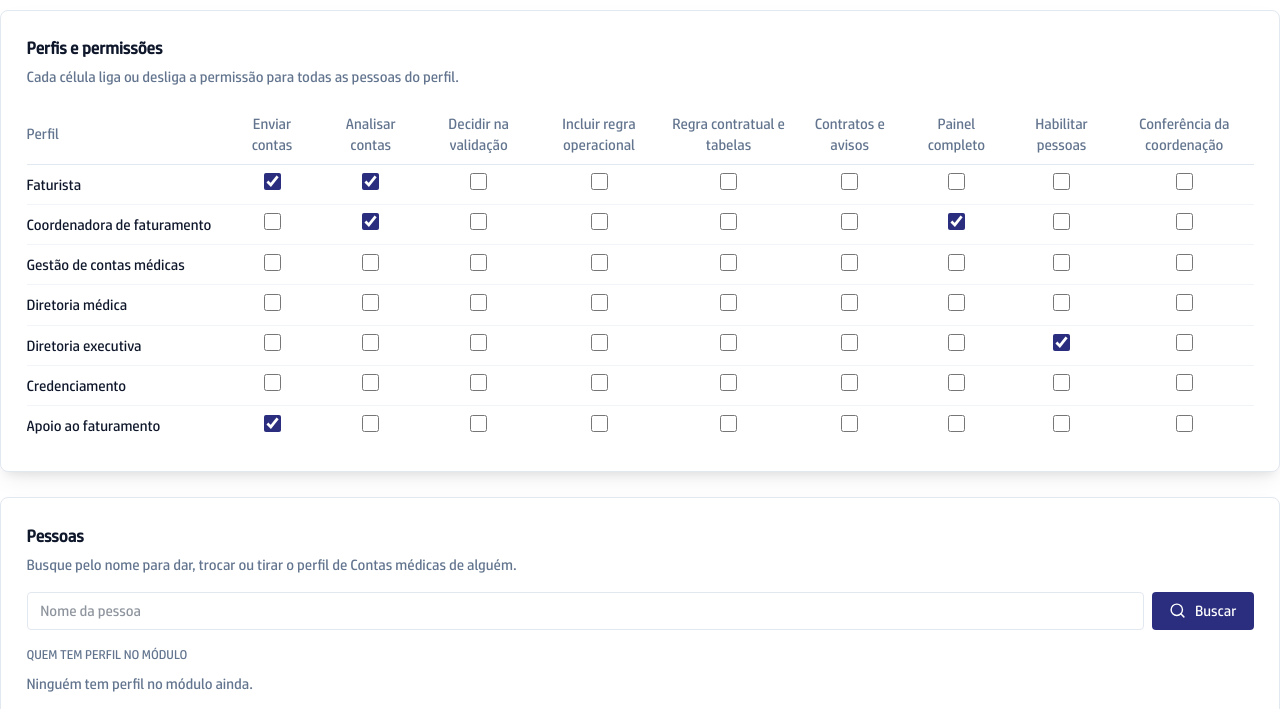
Test: as pessoas › busca pelo nome e dá o perfil à pessoa encontrada
The width and height of the screenshot is (1280, 709).
(page scrolled)
Step 1. Type "Fernanda" into the search field named "Buscar pessoa pelo nome" → coordinates (585, 611), box top-left (26, 592), bottom-right (1144, 630)
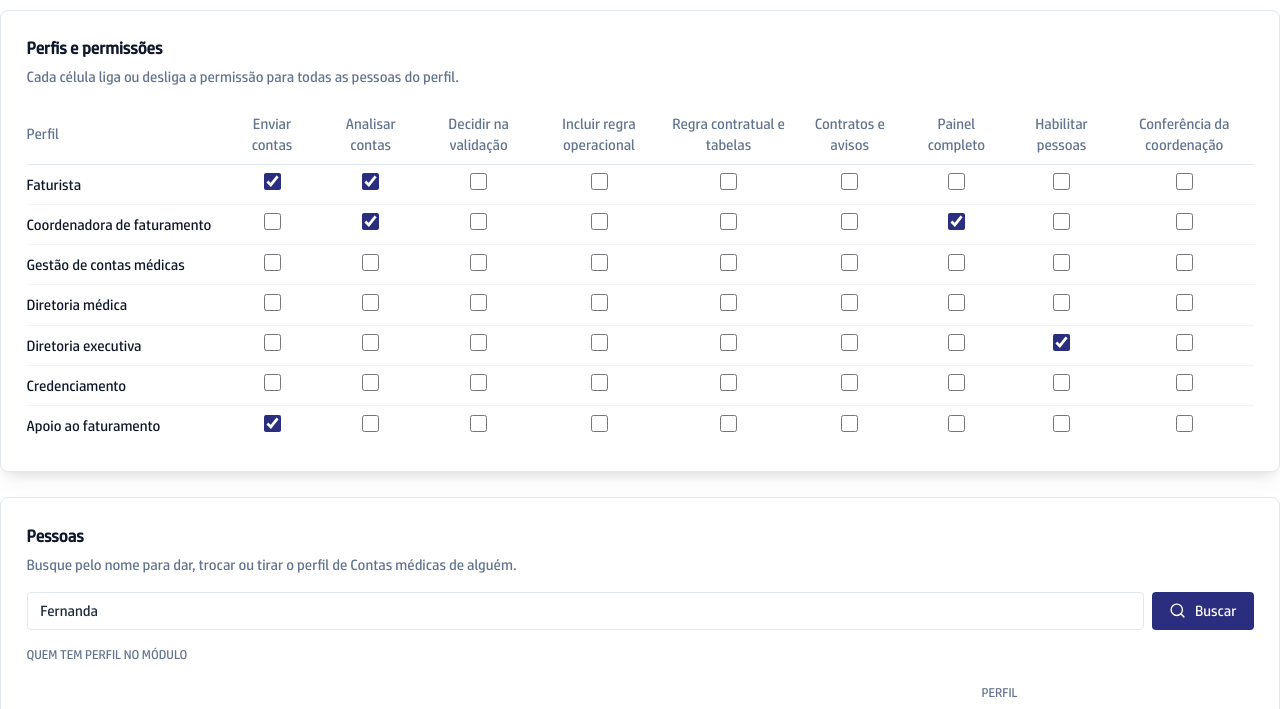
Step 2. Click the button "Buscar" → coordinates (1203, 611), box top-left (1152, 592), bottom-right (1254, 630)
(page scrolled)
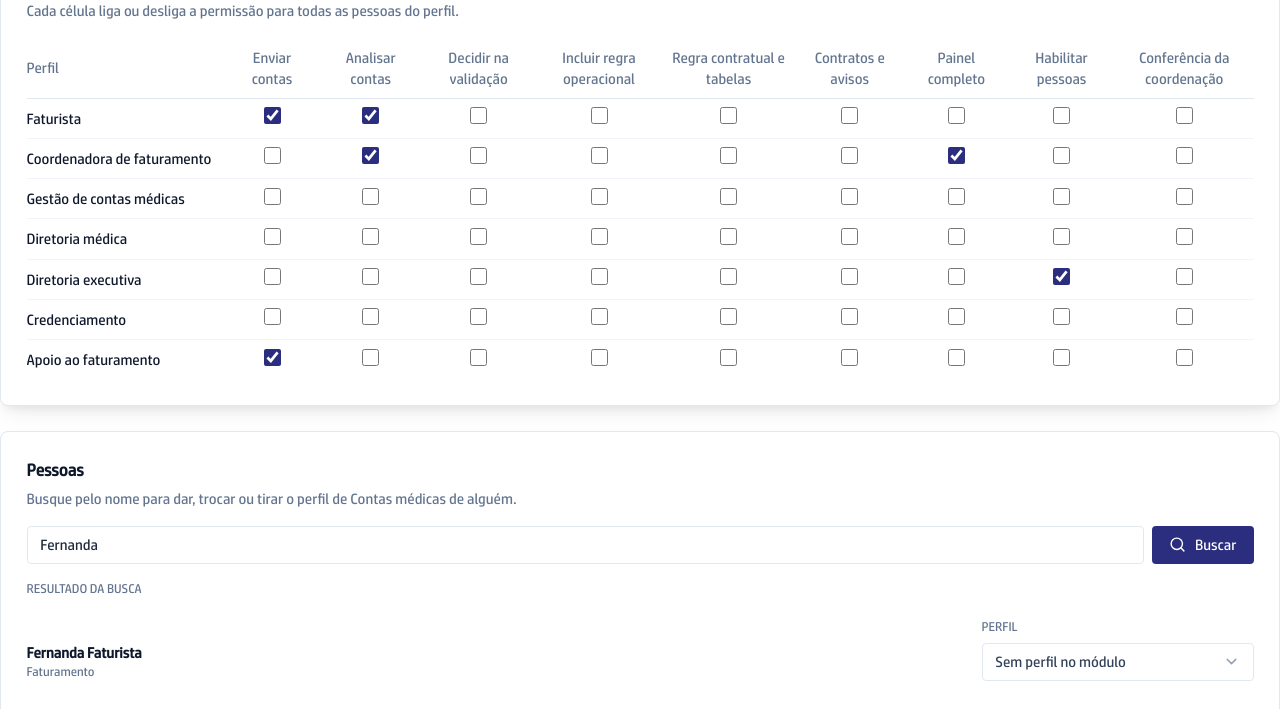
Step 3. Click the dropdown labelled "perfil" → coordinates (1118, 662), box top-left (982, 643), bottom-right (1254, 681)
(page scrolled)
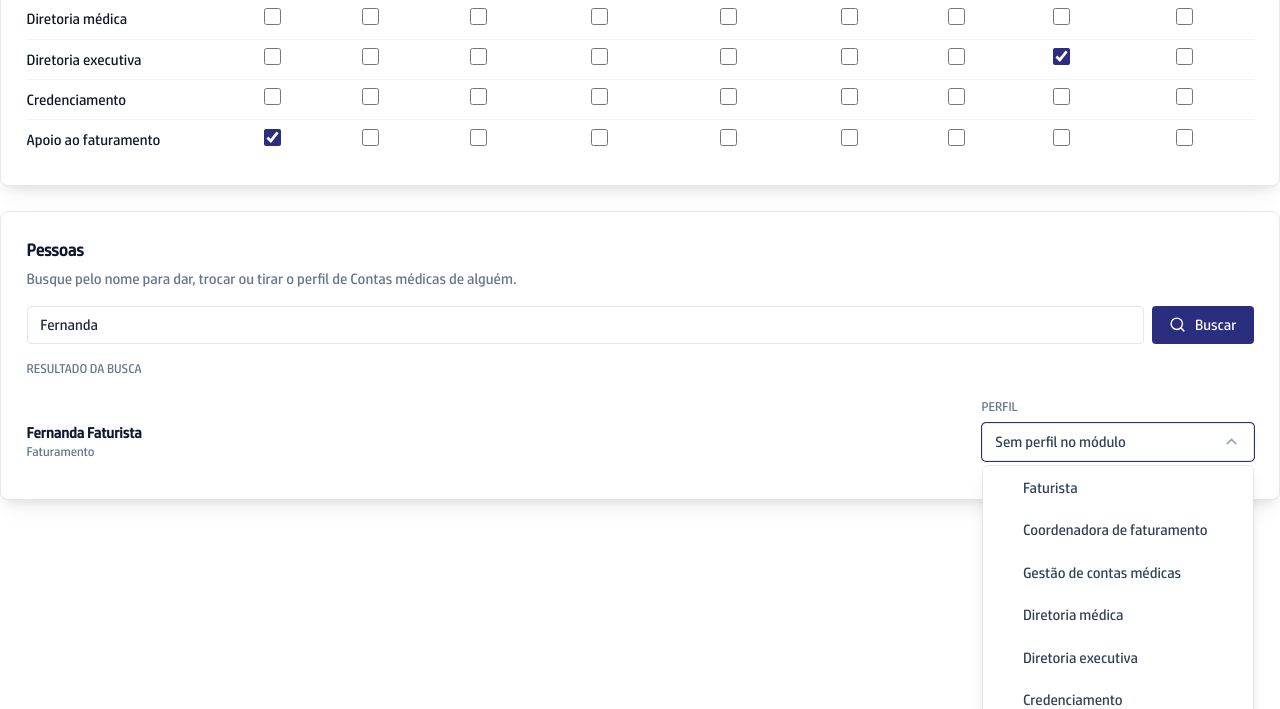
Step 4. Click the option "Faturista" → coordinates (1050, 487), box top-left (1023, 479), bottom-right (1078, 496)
(page scrolled)
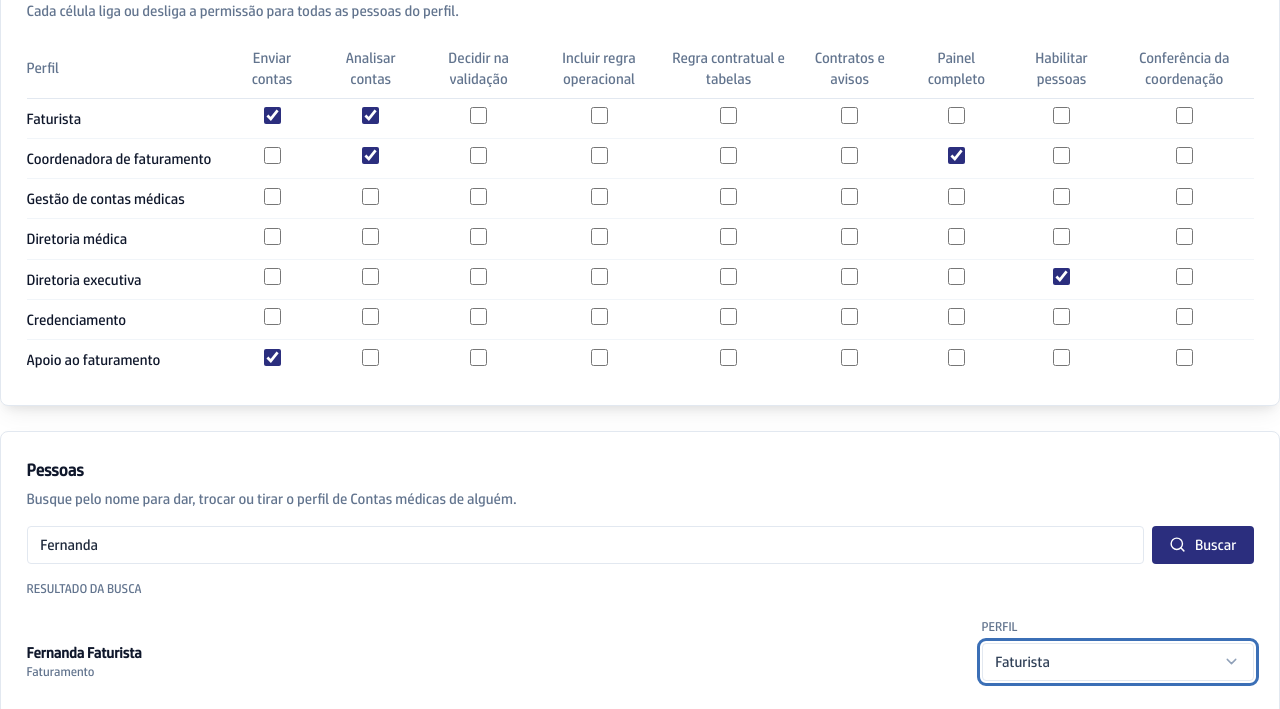
Expected: the dropdown named "Perfil" reads "Faturista", top-left (982, 643), bottom-right (1254, 681)
